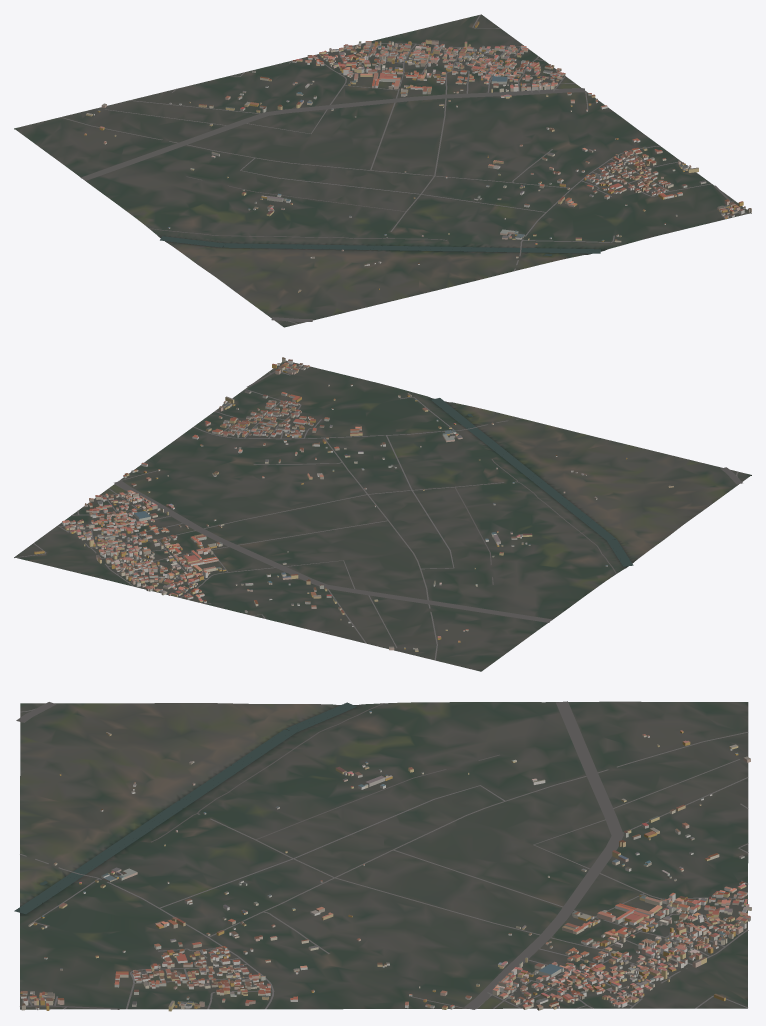
The picture shows the model from 3 angles, top to bottom: view 1: azimuth 30°, elevation 25°; view 2: azimuth 150°, elevation 25°; view 3: azimuth 270°, elevation 25°; orthographic projection. The views are drawn at different scales.
Visible parts, largest first — view 1: ground, buildings, roads, water; view 2: ground, buildings, roads, water; view 3: ground, buildings, roads, water.
Boxes of the visible parts, <box> form: ground: <box>14,14,751,327</box>; buildings: <box>84,21,751,292</box>; roads: <box>60,14,747,324</box>; water: <box>160,236,600,255</box>; ground: <box>14,360,751,671</box>; buildings: <box>34,357,673,651</box>; roads: <box>15,361,742,660</box>; water: <box>431,398,633,566</box>; ground: <box>20,701,748,1009</box>; buildings: <box>20,711,751,1011</box>; roads: <box>16,701,748,1009</box>; water: <box>14,702,356,914</box>.
Size of the model in its own units: 1418 by 27.85 by 1421.
